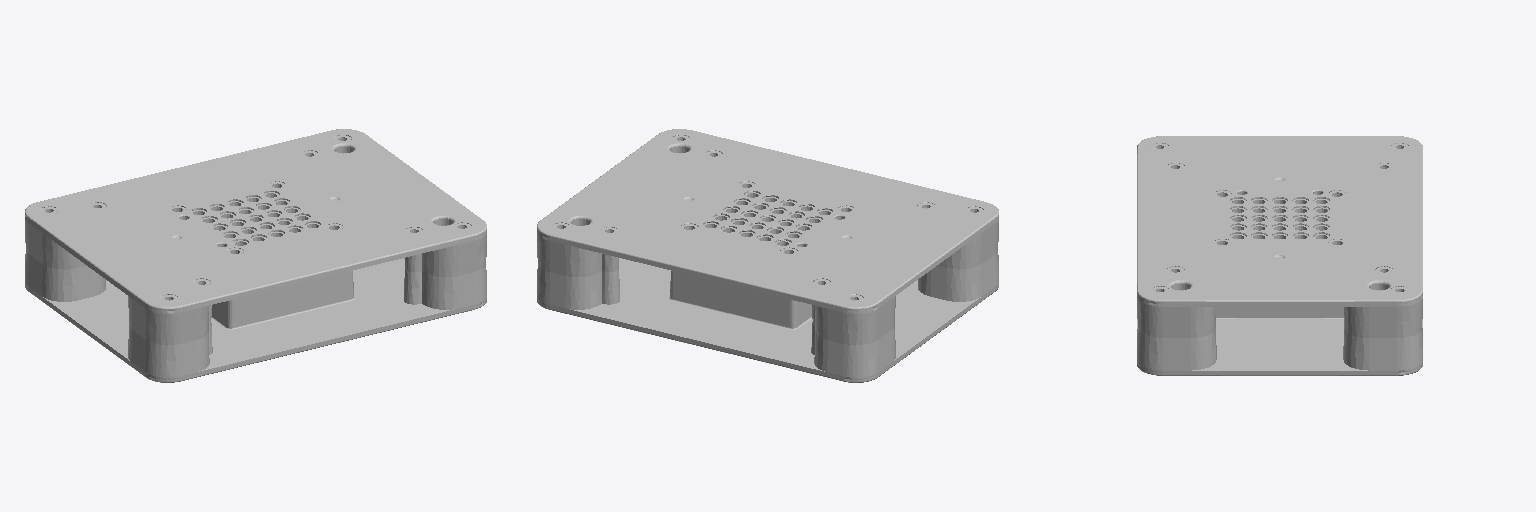
File: mycobot_base.obj
3 views of the same model, side by side, from view 1: azimuth 30°, elevation 25°; view 2: azimuth 150°, elevation 25°; view 3: azimuth 270°, elevation 25° (orthographic).
Size of the model in its own units: 0.15 by 0.032 by 0.11.